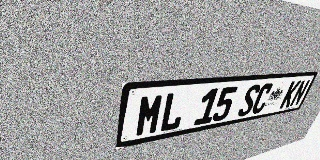1: (194, 88, 222, 126)
5: (211, 86, 238, 122)
C: (250, 83, 274, 115)
K: (279, 80, 302, 109)
L: (158, 91, 188, 133)
M: (134, 93, 165, 137)
N: (289, 79, 311, 107)
S: (236, 84, 262, 117)
